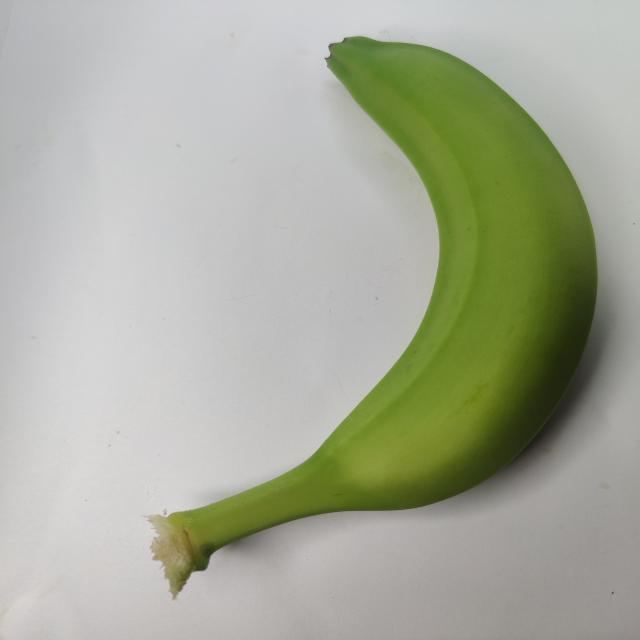raw: (111, 23, 612, 608)
